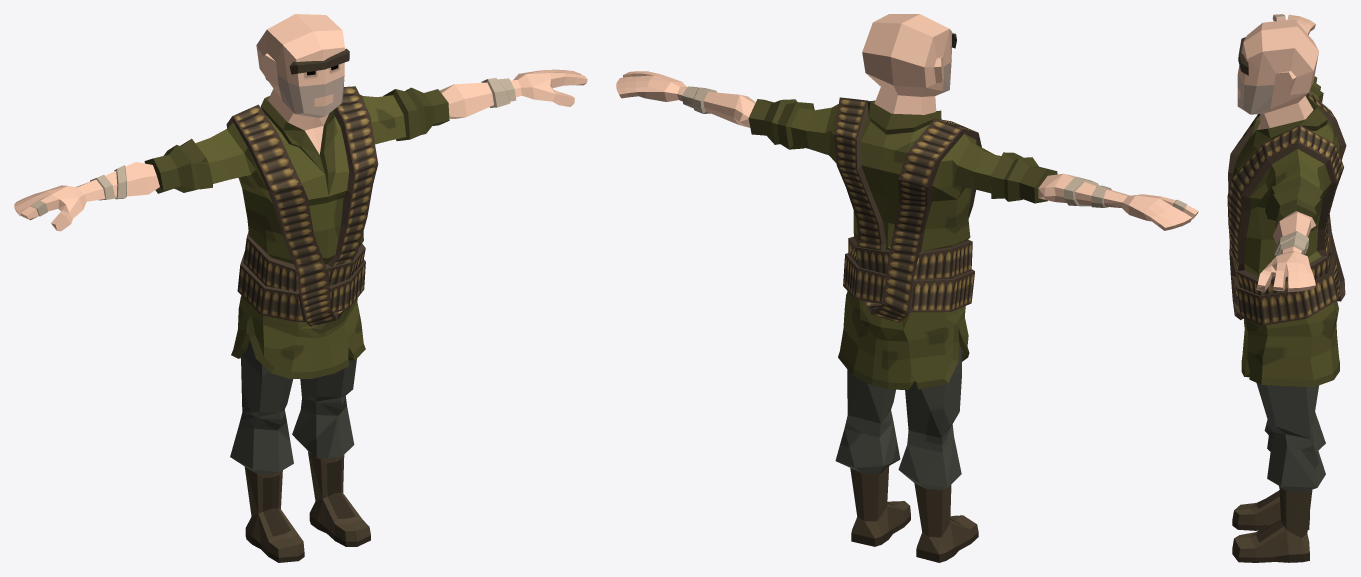
The model's file is SM_Chr_Insurgent_Male_03.fbx.
3 views of the same model, side by side, from view 1: azimuth 30°, elevation 25°; view 2: azimuth 150°, elevation 25°; view 3: azimuth 270°, elevation 25° (orthographic). The views are drawn at different scales.
Visible parts, largest first — view 1: SM_Chr_Insurgent_Male_03; view 2: SM_Chr_Insurgent_Male_03; view 3: SM_Chr_Insurgent_Male_03.
Part boxes in pixels (left/top/right/bottom): SM_Chr_Insurgent_Male_03: left=14, top=14, right=587, bottom=562; SM_Chr_Insurgent_Male_03: left=616, top=14, right=1198, bottom=562; SM_Chr_Insurgent_Male_03: left=1227, top=14, right=1346, bottom=562.
Bounding box in the file's own units: 205 × 179 × 37.63.
